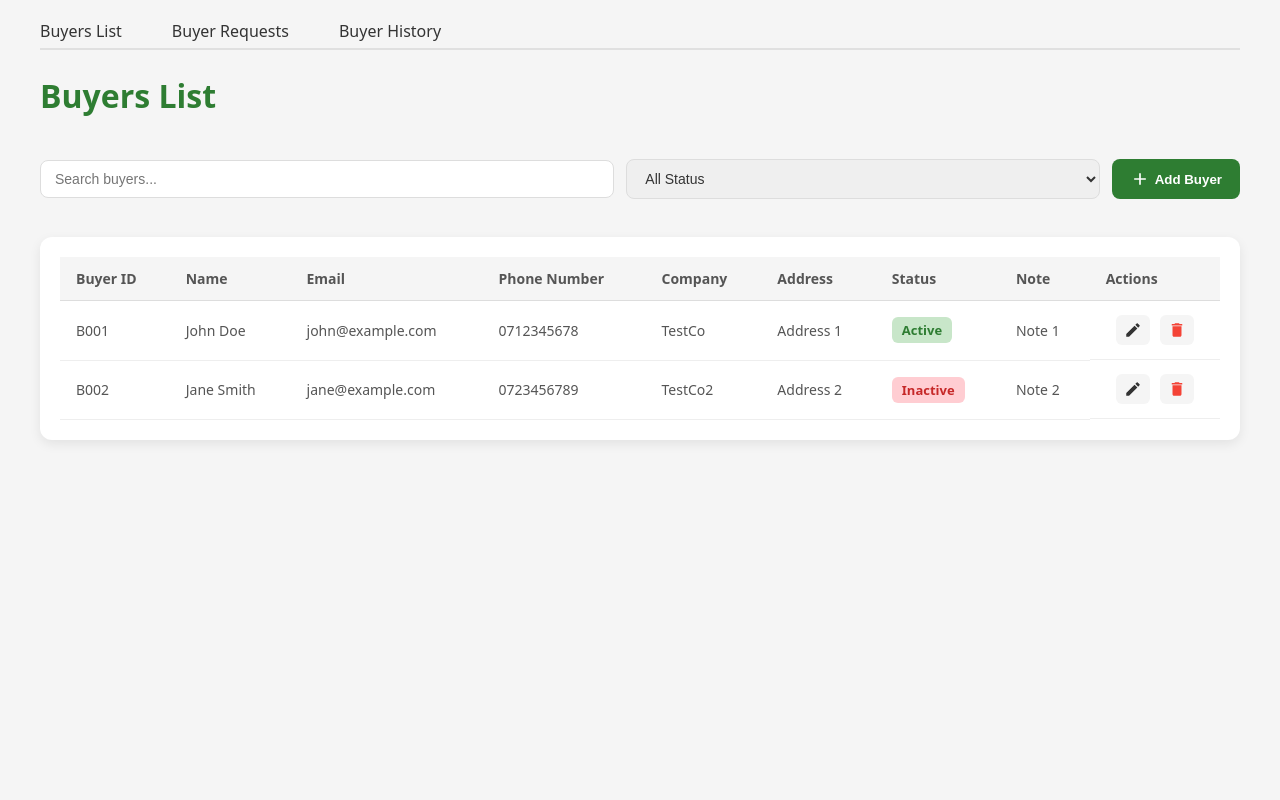
BuyersList Component › opens modal with buyer info when edit clicked
Check: the text "John Doe" is shown, box top-left (170, 300), bottom-right (290, 360)
What coordinates should you click on to do the following:
click the 2nd button
I would click on:
 (1133, 330)
Its box is top-left (1116, 315), bottom-right (1150, 345).
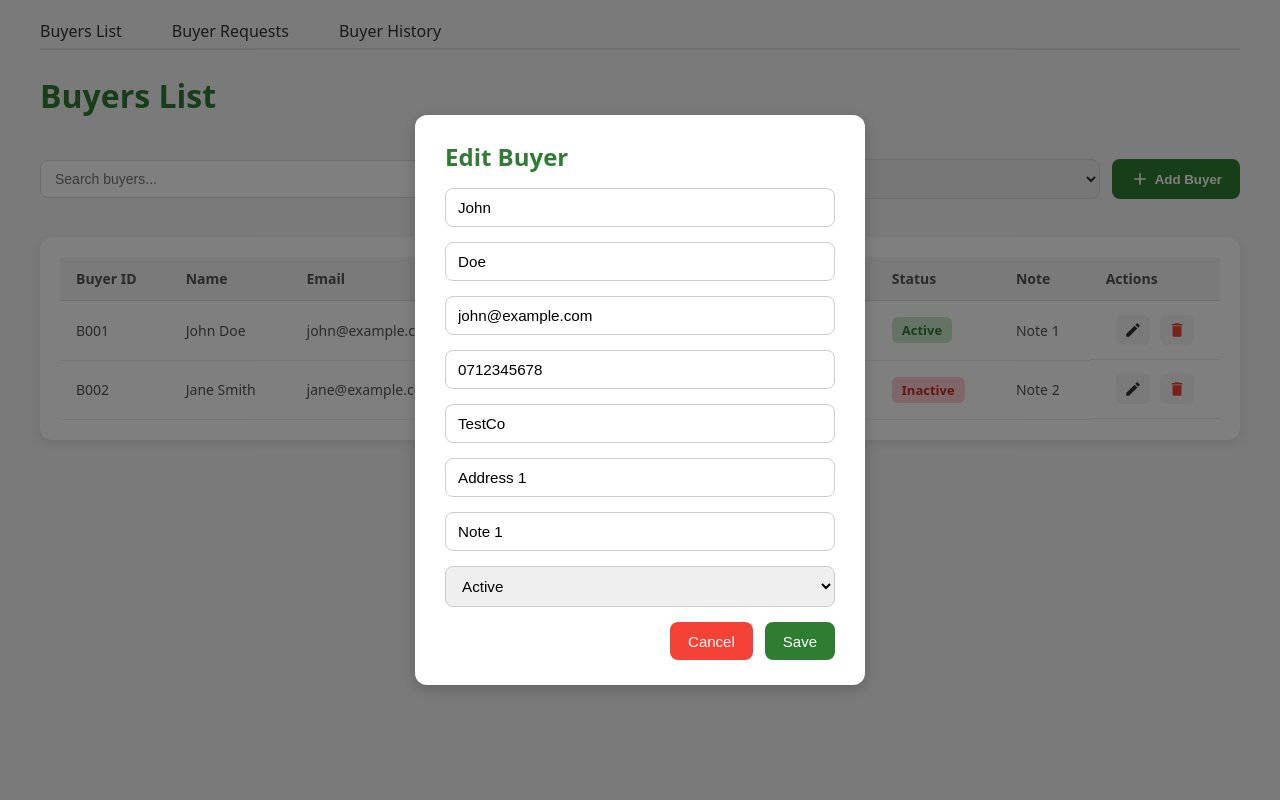
Check: the 1st field with placeholder "First Name" holds "John", box top-left (445, 188), bottom-right (835, 227)
Check: the 3rd field with placeholder "Email" holds "john@example.com", box top-left (445, 296), bottom-right (835, 335)
